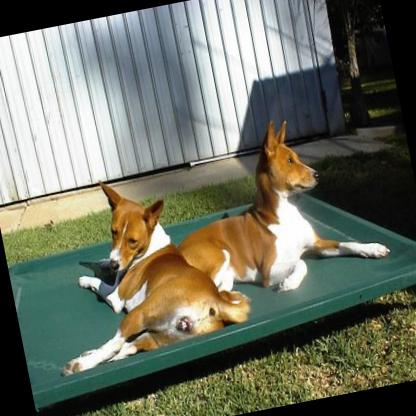basenji: (24, 152, 258, 378), (156, 98, 394, 310)
